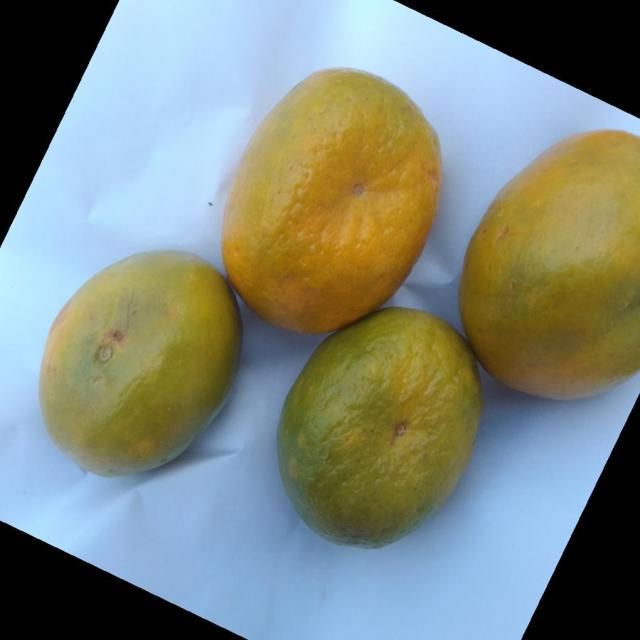fresh orange: (220, 64, 442, 333), (276, 305, 483, 548), (457, 127, 639, 401), (38, 247, 242, 477)
